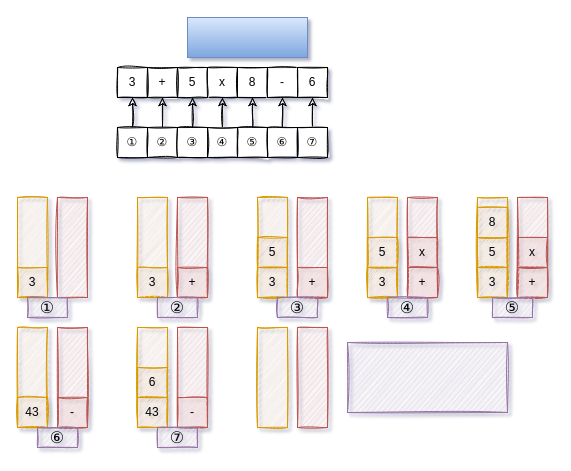
Image size: 571x471. Some labels were removed from this diagram. Here are the shapes that lost their labels. From the top down, the box of each, then its label:
(186, 16, 308, 58): 四则运算
(346, 342, 508, 412): 最后清空栈，结果 = 37
